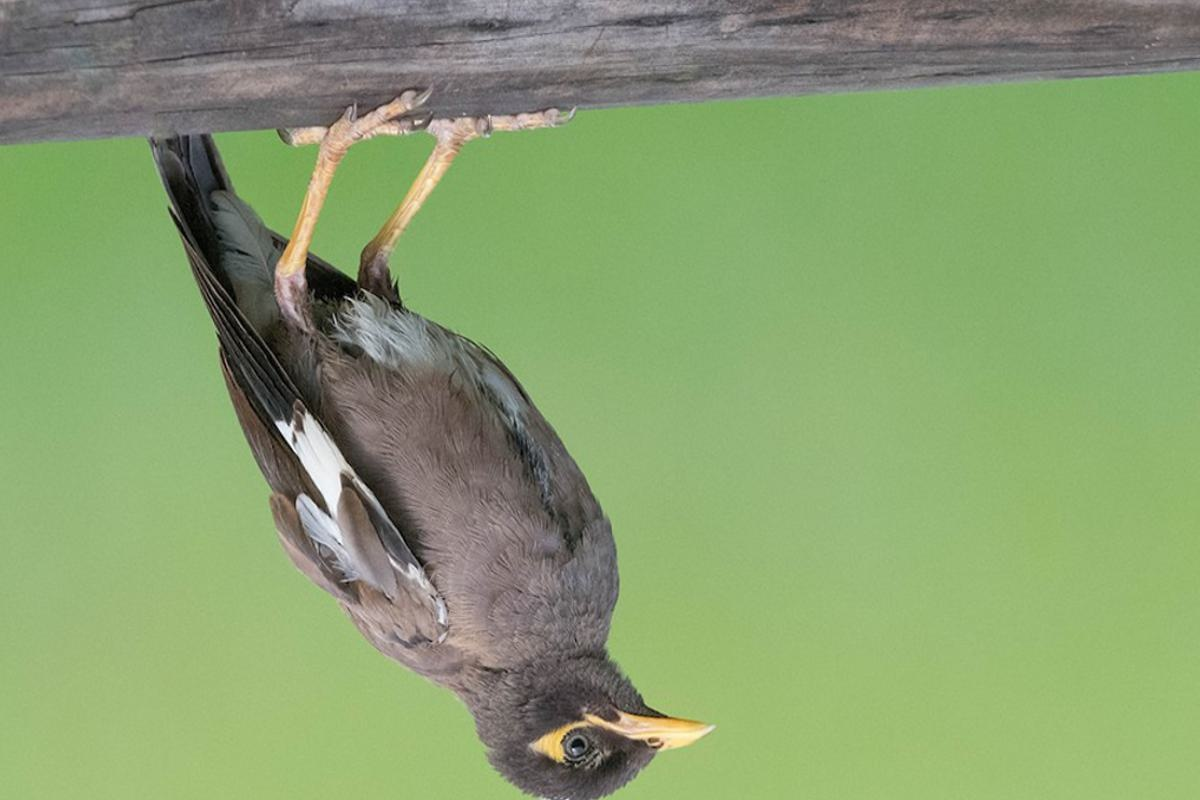myna: (163, 107, 735, 797)
